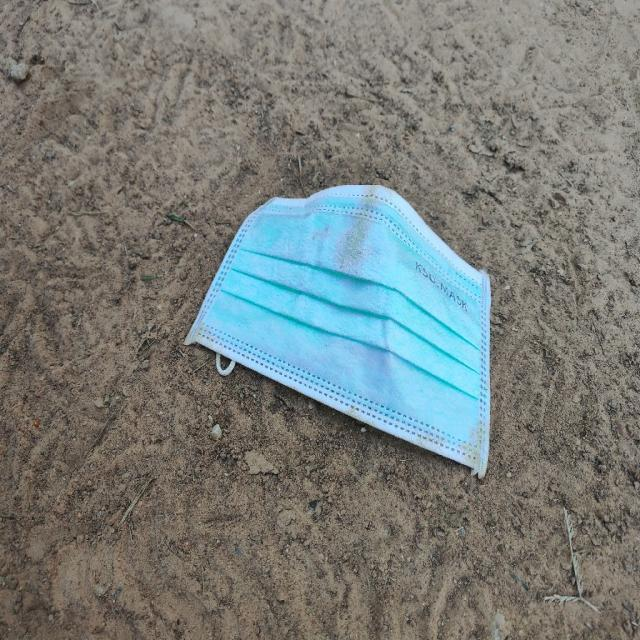face mask: (186, 181, 489, 481)
